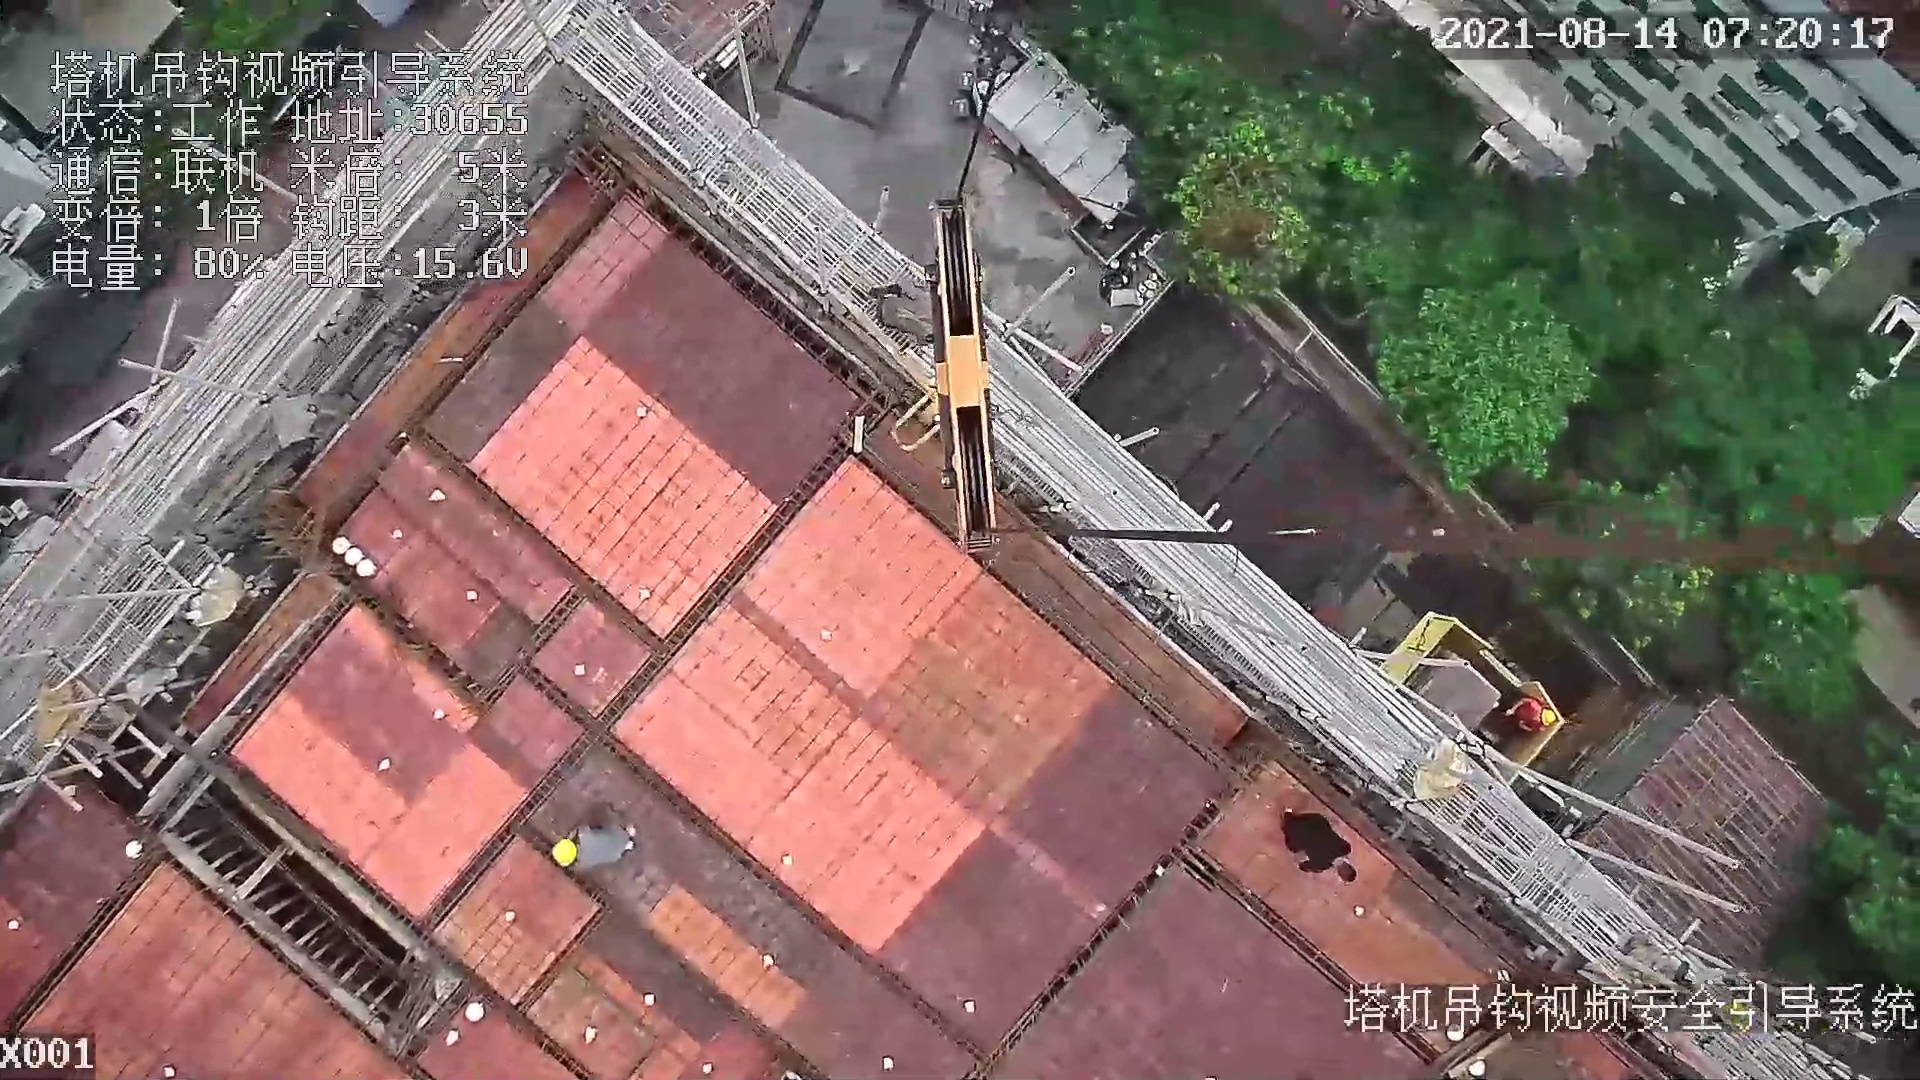helmet: (551, 837, 580, 869), (1538, 707, 1555, 728)
hook: (899, 196, 1018, 556)
person: (1276, 803, 1367, 894), (549, 814, 633, 869), (1497, 690, 1559, 741)
